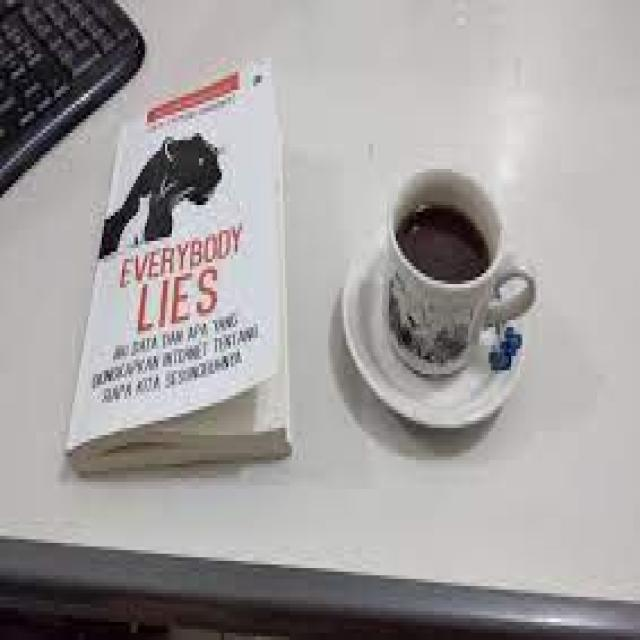book: (73, 56, 282, 476)
glass: (365, 150, 542, 376)
